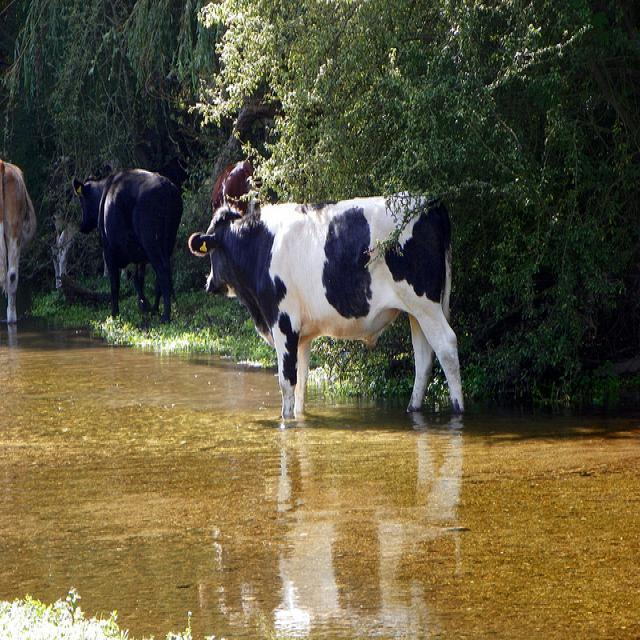cow: (187, 188, 464, 425), (70, 168, 184, 324), (0, 159, 35, 321), (208, 156, 253, 215)
